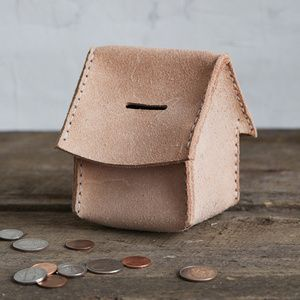cuero: (57, 45, 256, 231)
